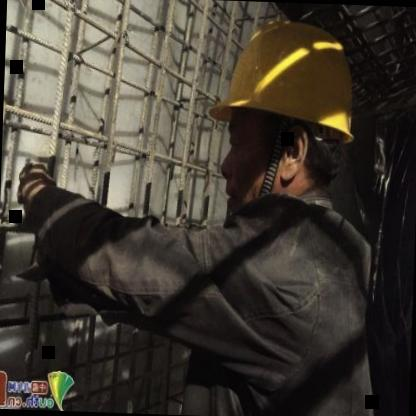helmet: (192, 5, 378, 248), (40, 366, 80, 412)
